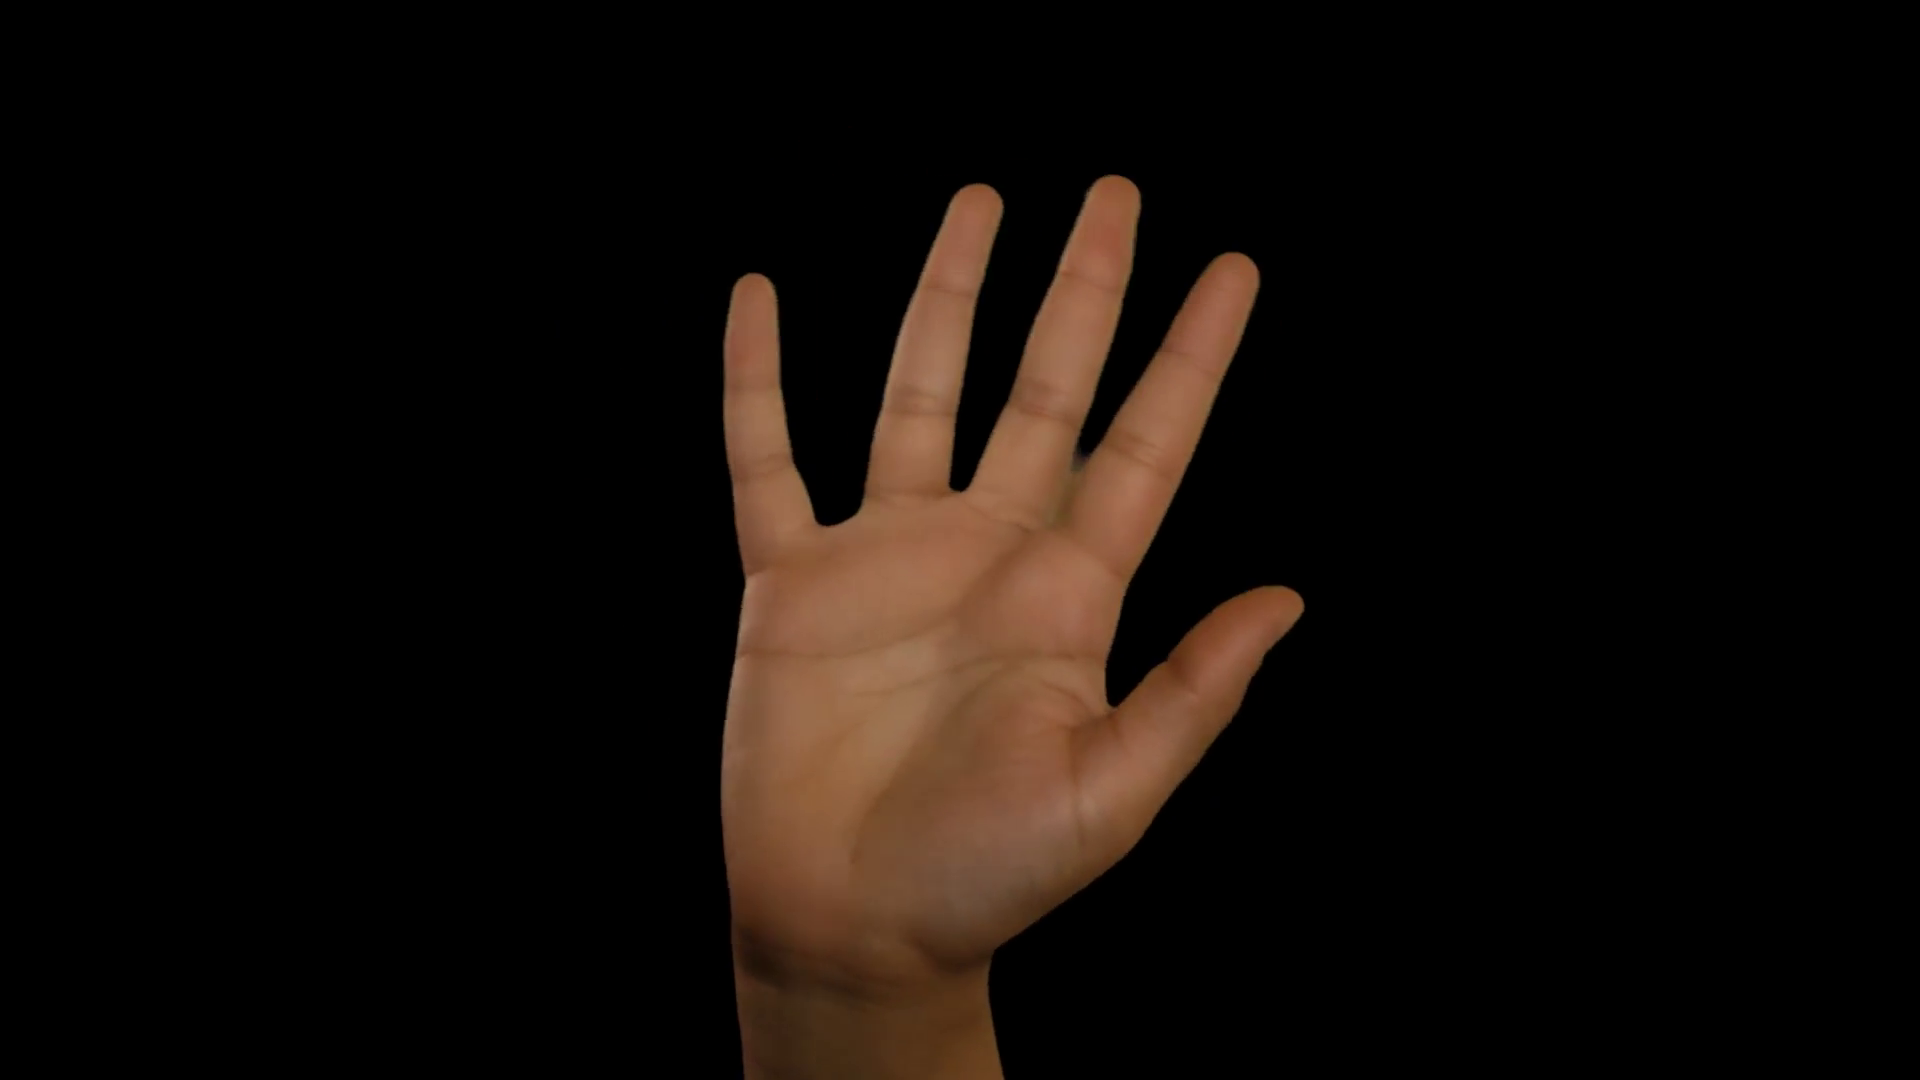open_hand: (585, 123, 1399, 990)
